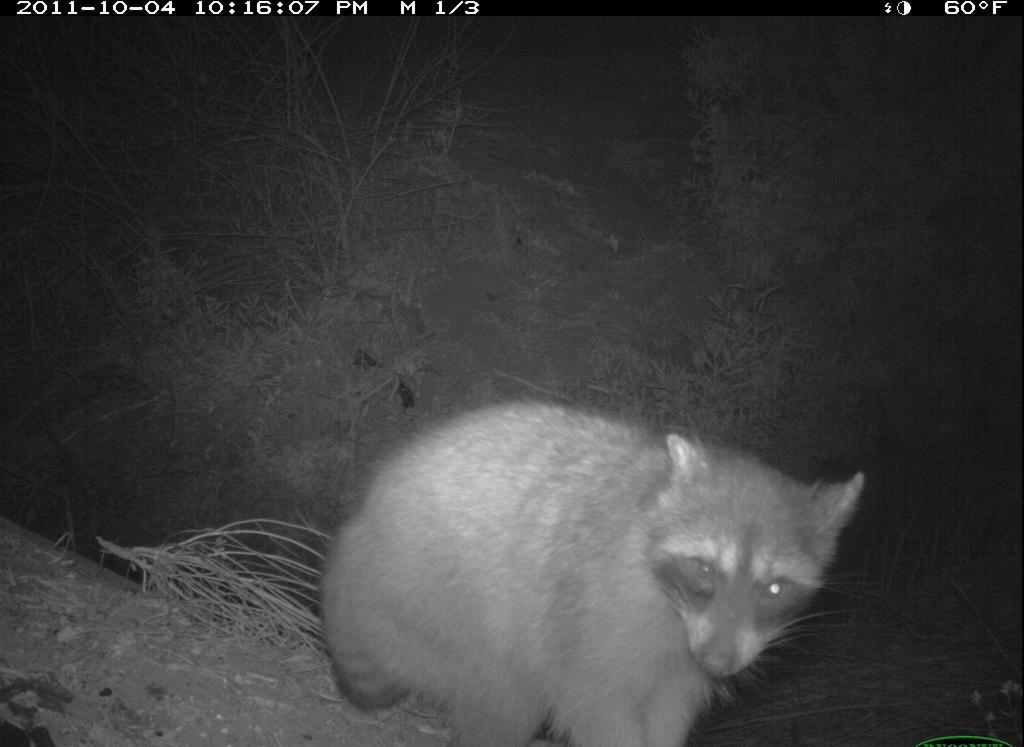raccoon: (318, 392, 871, 747)
